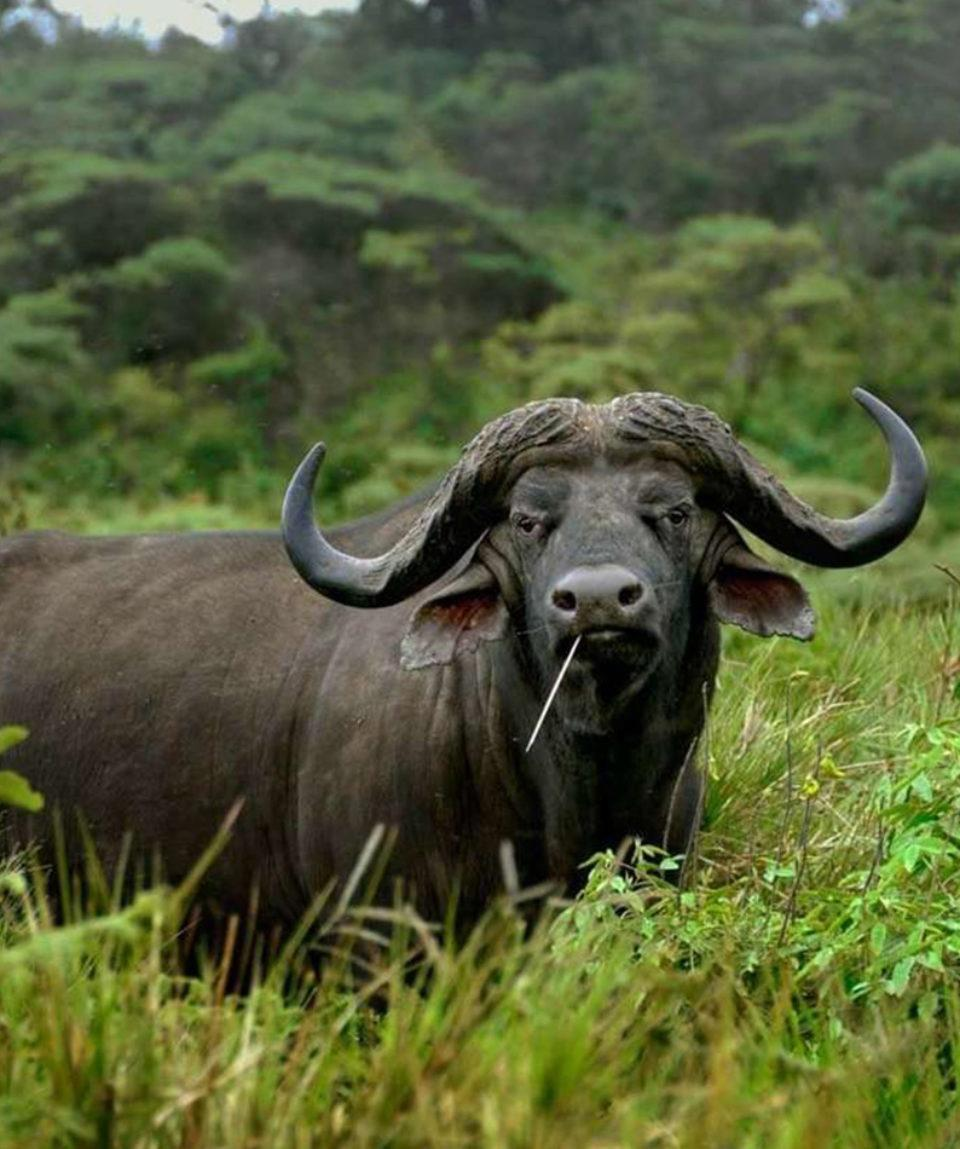Buffalo: (37, 24, 960, 1149)
